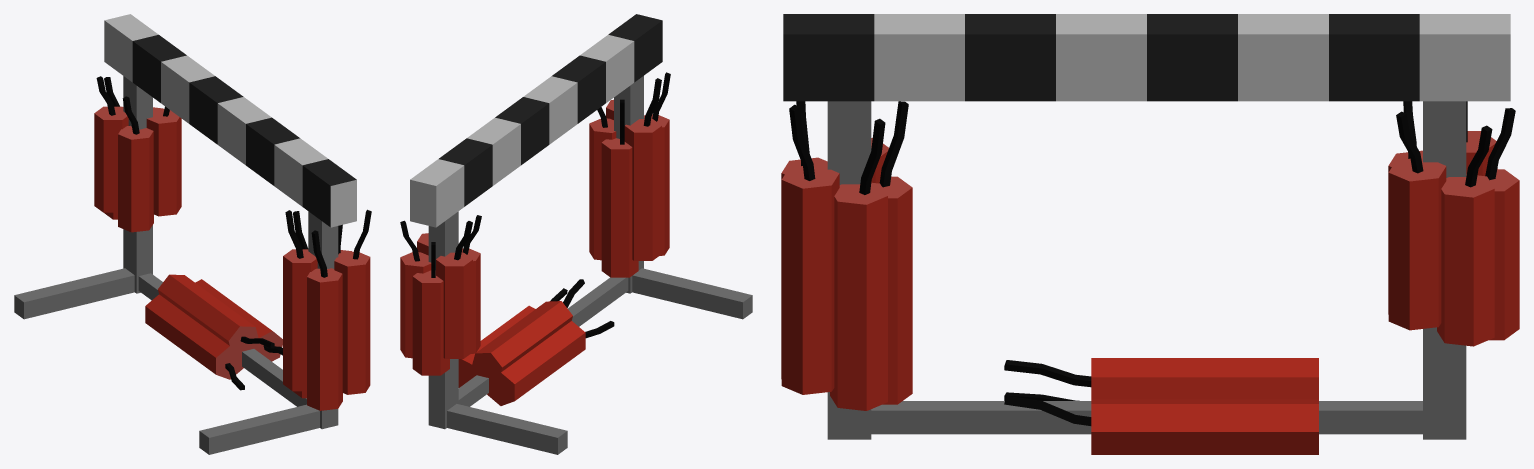
The model's file is hurdle_dynamite_01.fbx.
3 views of the same model, side by side, from view 1: azimuth 30°, elevation 25°; view 2: azimuth 150°, elevation 25°; view 3: azimuth 270°, elevation 25° (orthographic). The views are drawn at different scales.
Visible parts, largest first — view 1: hurdle_dynamite_01; view 2: hurdle_dynamite_01; view 3: hurdle_dynamite_01.
Part boxes in pixels (x1,y1,x2,y2): hurdle_dynamite_01: (14, 14, 371, 454); hurdle_dynamite_01: (400, 14, 752, 454); hurdle_dynamite_01: (781, 14, 1519, 454).
Size of the model in its own units: 133 by 215 by 341.
